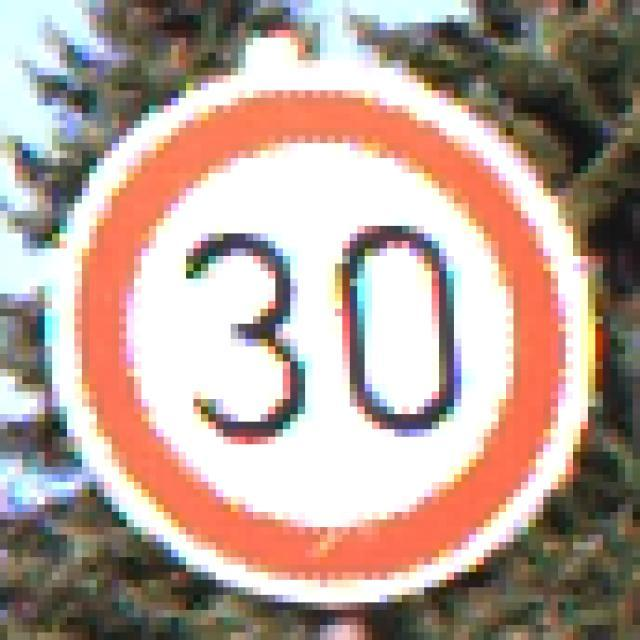Speed Limit -30-: (48, 56, 584, 584)
